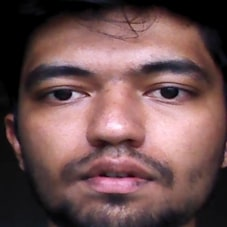awake: (31, 57, 217, 195)
